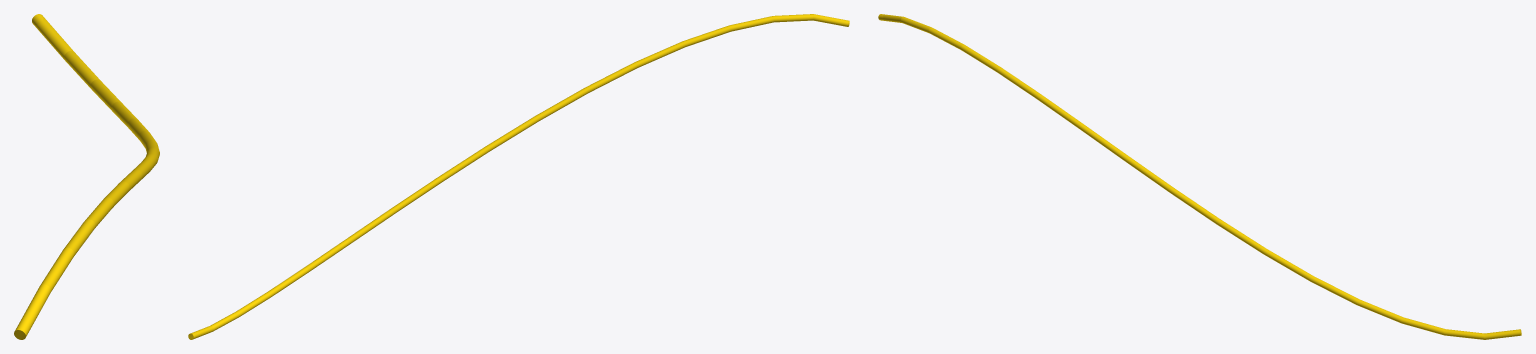
File: Event_420094457_track_57.fbx
3 renders of one model, left to right at view 1: azimuth 90°, elevation 25°; view 2: azimuth 210°, elevation 25°; view 3: azimuth 330°, elevation 25°, orthographic. The views are drawn at different scales.
Visible parts, largest first — view 1: Model; view 2: Model; view 3: Model.
Part boxes in pixels (bbox=[...]): Model: bbox=[14, 14, 159, 339]; Model: bbox=[188, 14, 849, 339]; Model: bbox=[878, 14, 1521, 339].
Bounding box in the file's own units: 4.61 × 1.2 × 0.4559.
